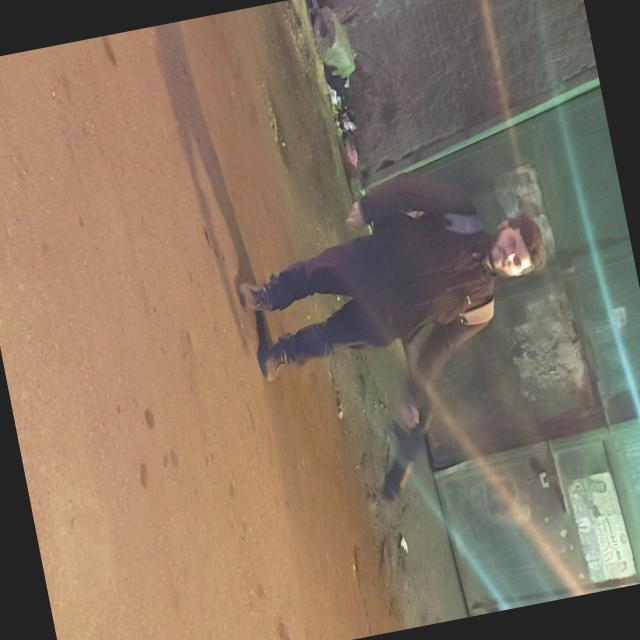long weapon: (352, 382, 458, 514)
